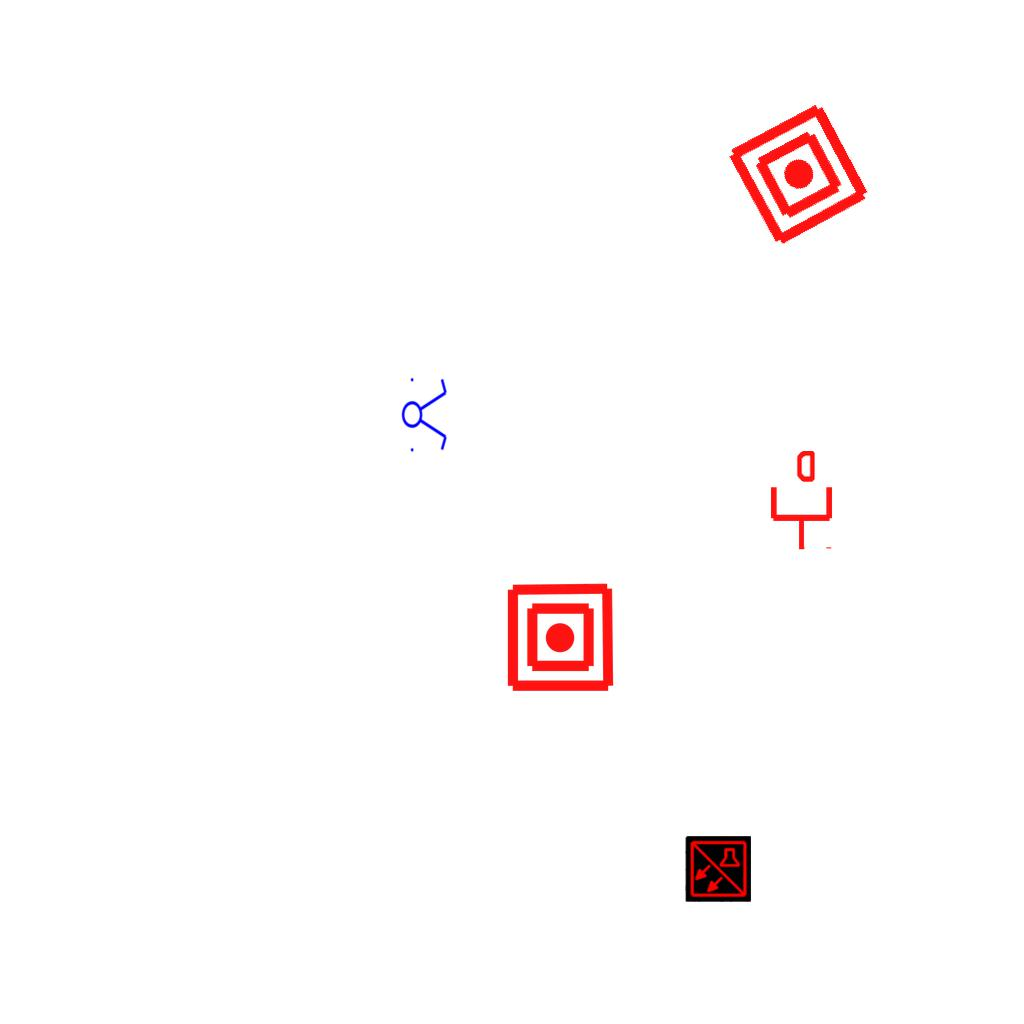Datenanschluss_einfach: (767, 451, 836, 551)
NAM-Nichtautomatischer_Melder: (722, 98, 875, 251), (504, 581, 617, 694)
OKW_Multisensormelder_(Kombination_optischer_Rauch-Kahlenmonoxid_Waerme-Melder): (685, 836, 751, 902)
Serienschalter: (401, 372, 449, 456)
